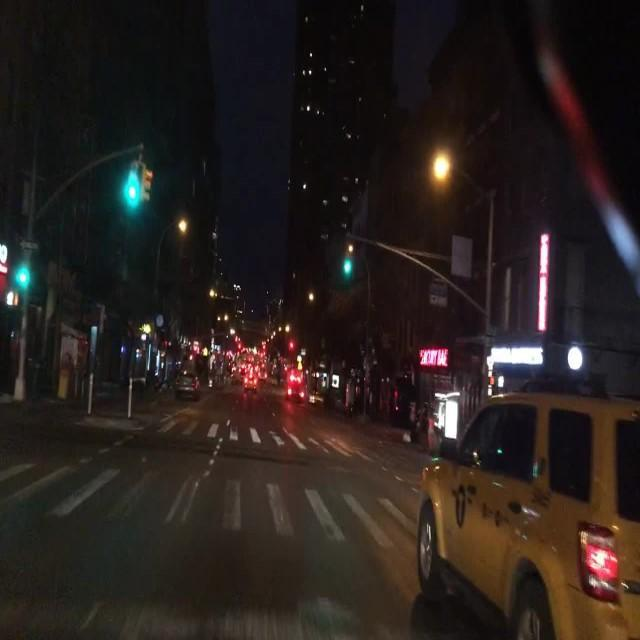normal: (393, 362, 640, 640), (173, 376, 201, 401)
